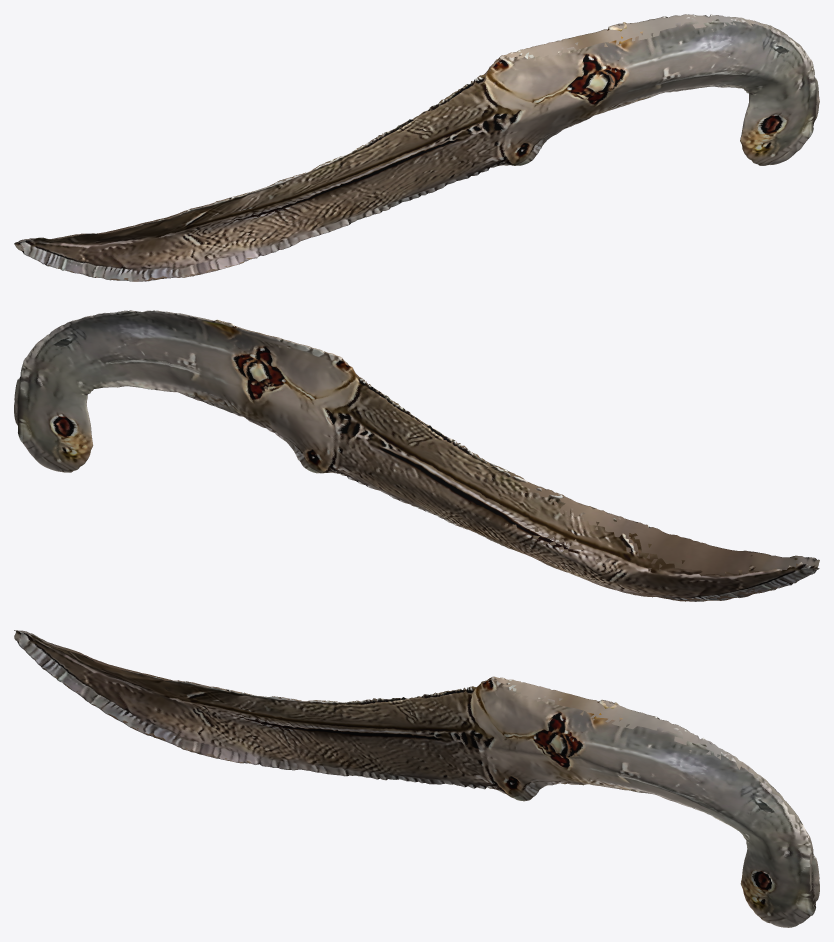
File: kfl-2221.glb
3 renders of one model, top to bottom at view 1: azimuth 30°, elevation 25°; view 2: azimuth 150°, elevation 25°; view 3: azimuth 330°, elevation 25°, orthographic. The views are drawn at different scales.
Visible parts, largest first — view 1: kfl-2221; view 2: kfl-2221; view 3: kfl-2221.
Boxes of the visible parts, x1,y1,x2,y2 form: kfl-2221: [14, 14, 819, 281]; kfl-2221: [14, 310, 819, 601]; kfl-2221: [14, 630, 819, 927].
Bounding box in the file's own units: 0.9847 × 0.2165 × 0.1054.
Materials: 4 (4 with a texture image).
